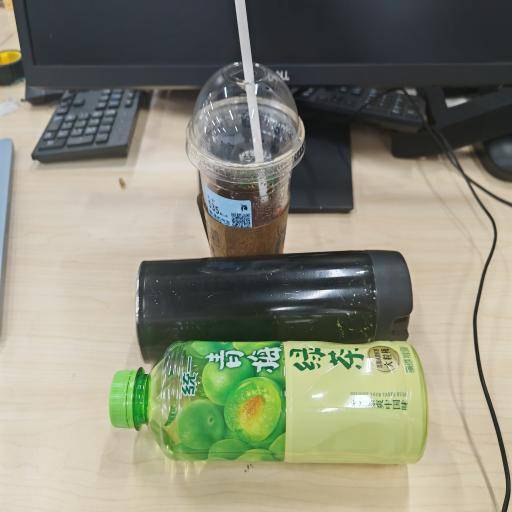mouse: (474, 134, 512, 181)
